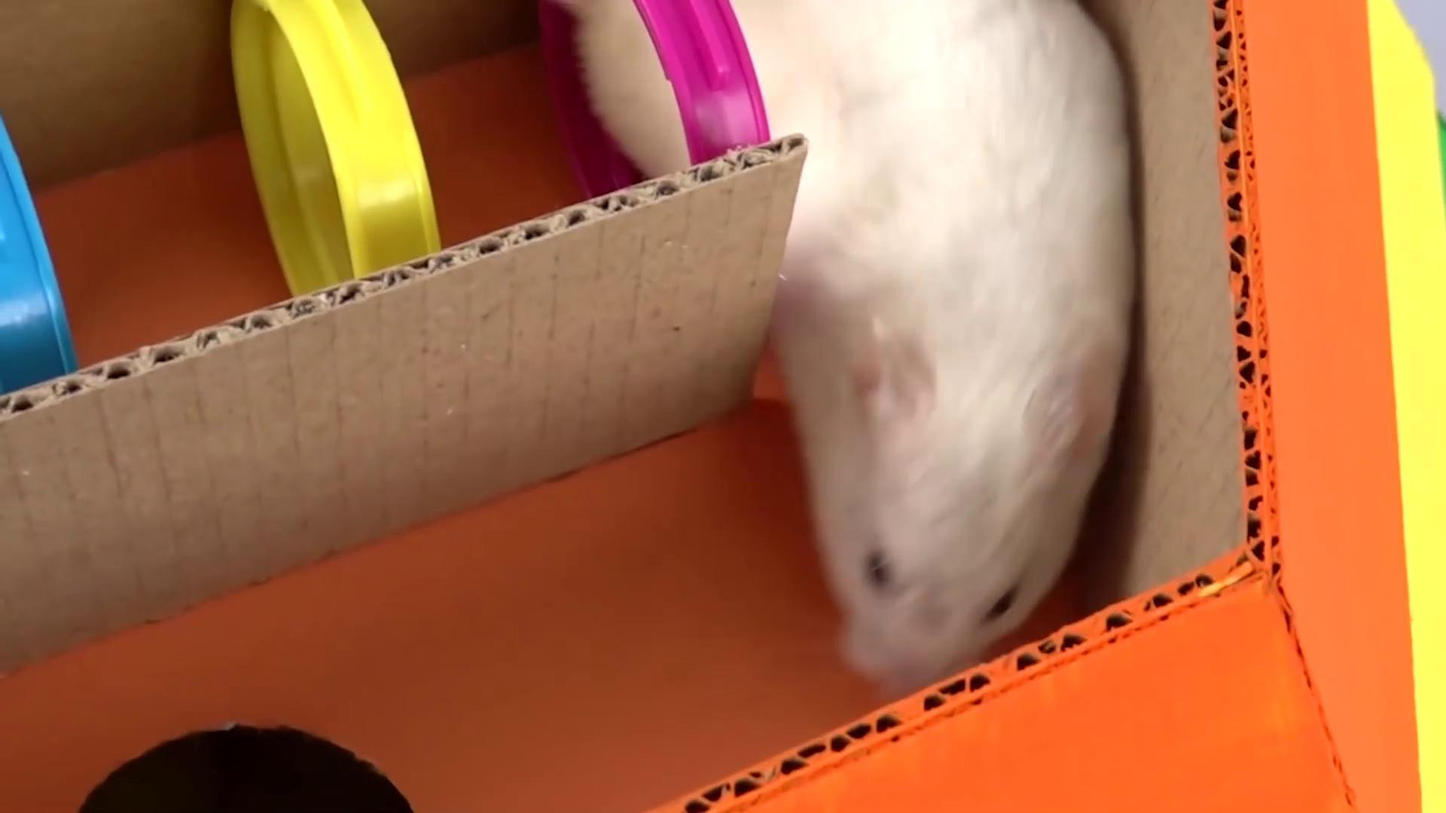rat: (576, 0, 1136, 695)
